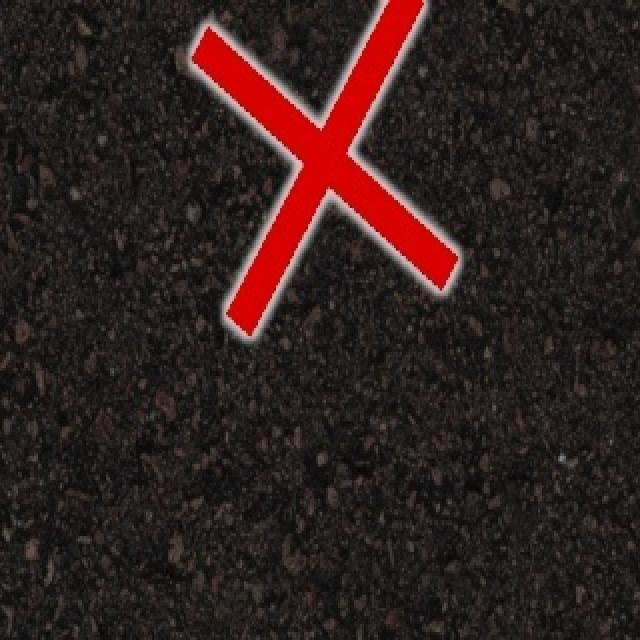x_marker: (191, 0, 457, 336)
